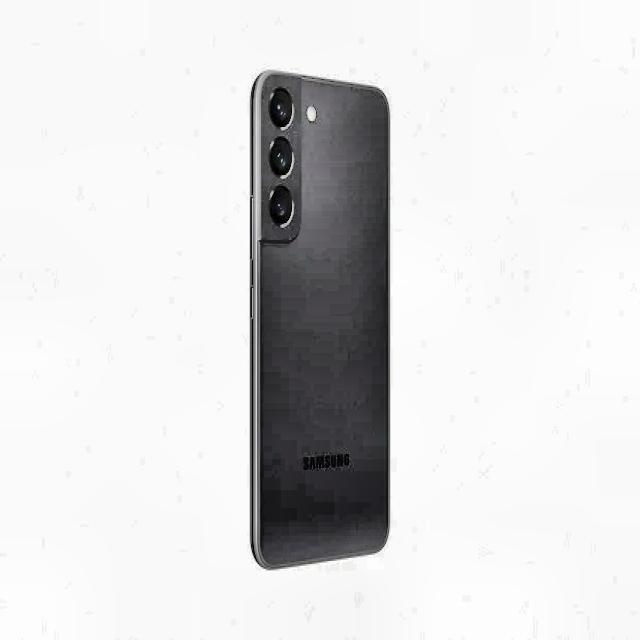Phone: (248, 67, 392, 572)
